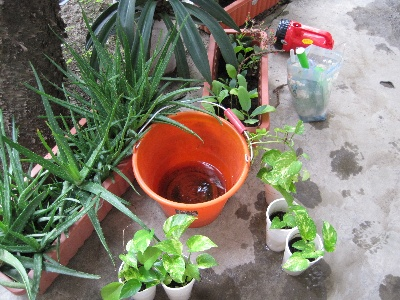bucket: (132, 109, 251, 228)
plastic_bag: (288, 45, 340, 122)
